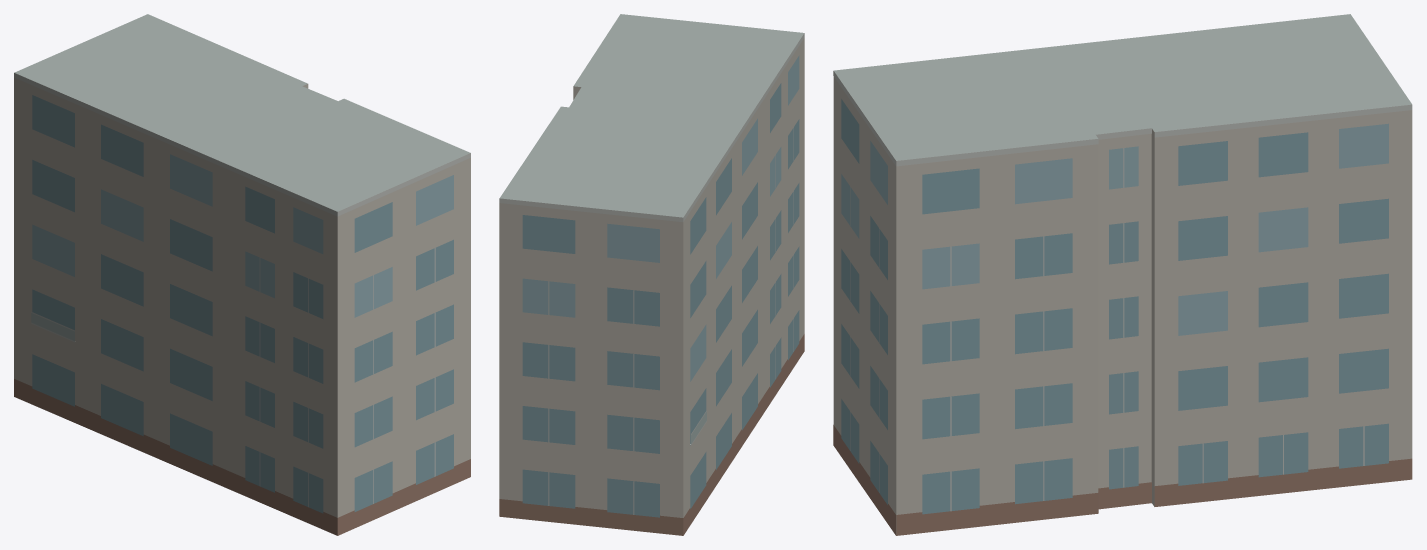
File: survey-upis-32997811.glb
The picture shows the model from 3 angles, left to right: view 1: azimuth 30°, elevation 25°; view 2: azimuth 150°, elevation 25°; view 3: azimuth 270°, elevation 25°; orthographic projection. The views are drawn at different scales.
Parts seen in each view (by area): view 1: survey-upis-32997811.tmp; view 2: survey-upis-32997811.tmp; view 3: survey-upis-32997811.tmp.
Boxes of the visible parts, left/top/right/bottom form: survey-upis-32997811.tmp: left=14, top=14, right=470, bottom=535; survey-upis-32997811.tmp: left=499, top=14, right=804, bottom=535; survey-upis-32997811.tmp: left=833, top=14, right=1412, bottom=535.
Size of the model in its own units: 14.14 by 16.8 by 23.52.
